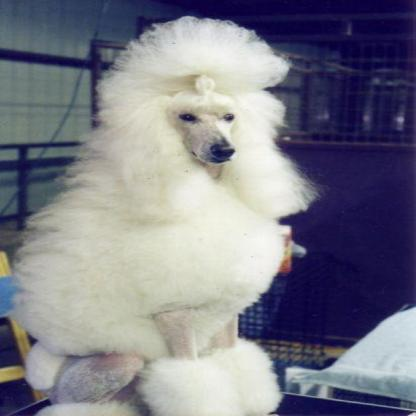standard_poodle: (18, 12, 324, 414)
